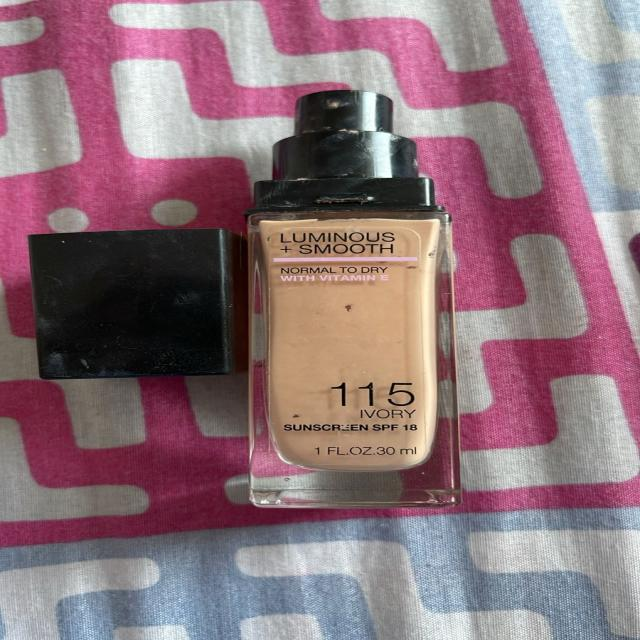foundation: (238, 80, 463, 526)
